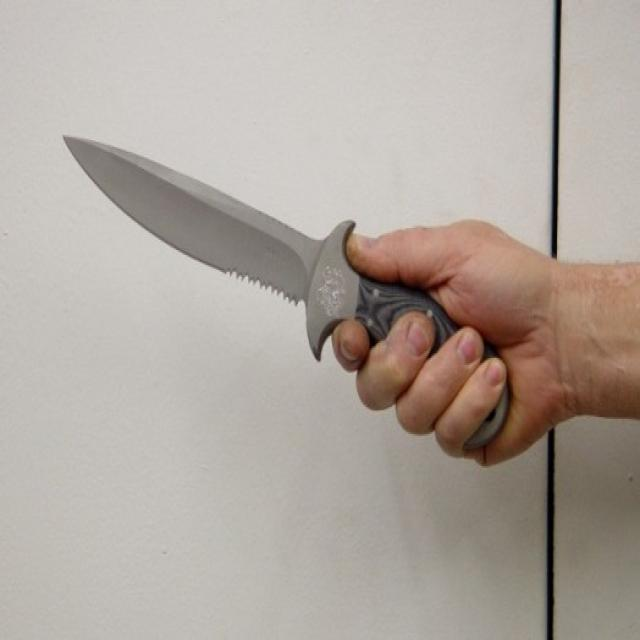knife: (59, 122, 392, 343)
